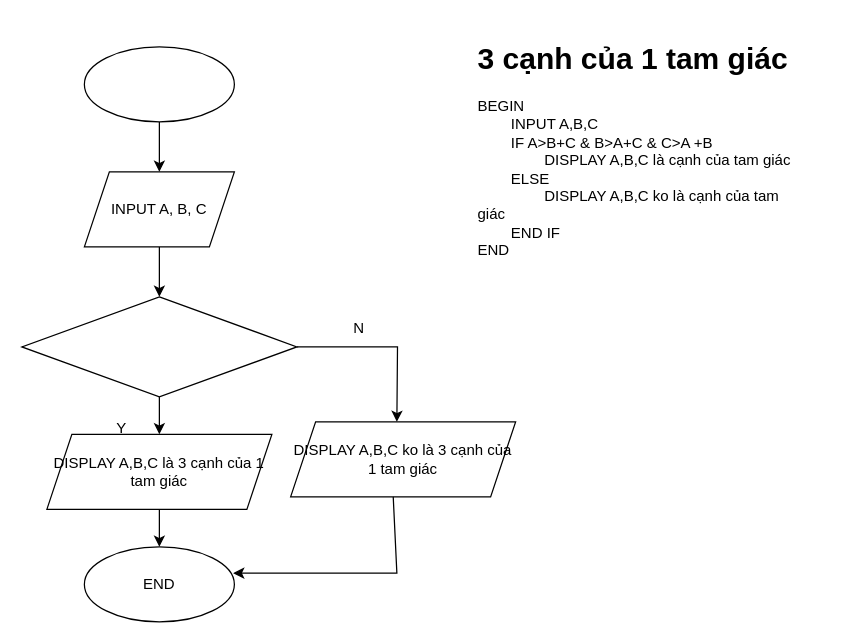
This 856x644 diagram has some shape labels left out. Each missing label, with the centre of its shape:
A>B+C &&B>A+C &&C>A+B &&A>0 &&B>0 &&C>0: point 159,346
BEGIN: point 158,84
